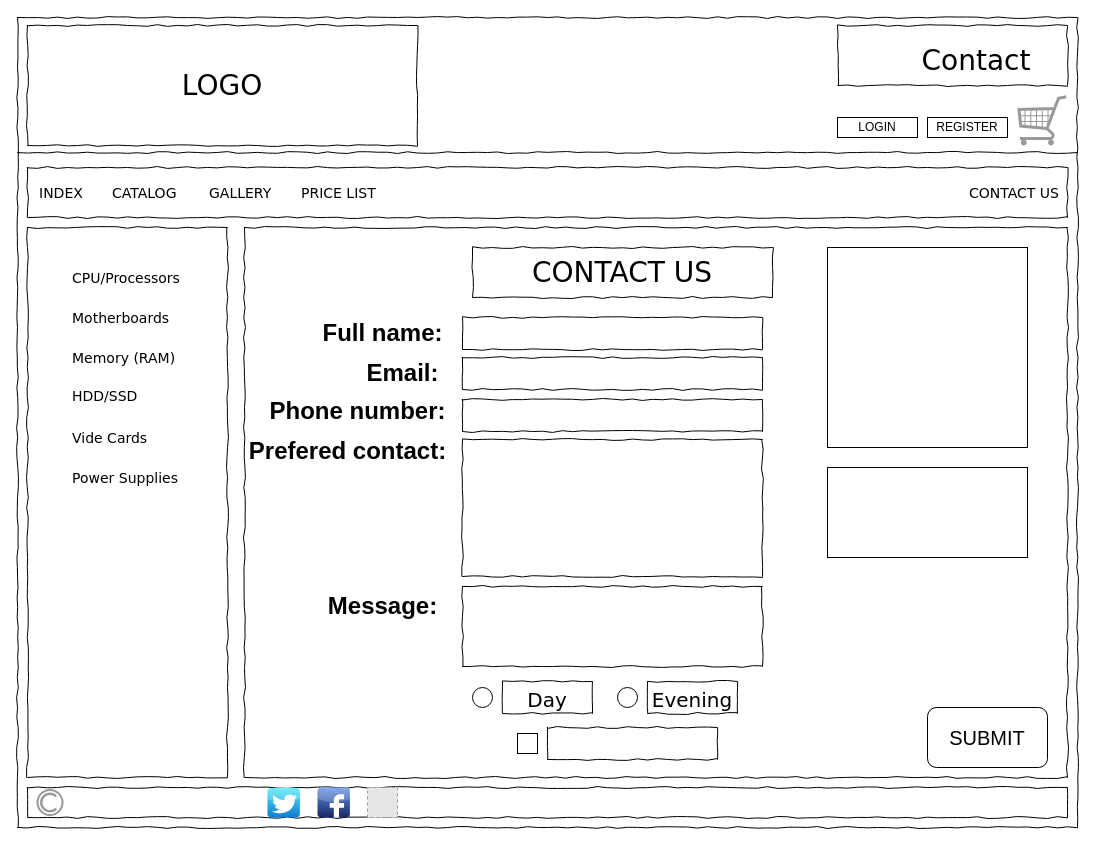
The diagram is 1095 pixels wide and 845 high, and some of its shapes have lost their labels. Grey dashed boxes stand in for pictures. The shapes that lost their labels are listed below. From the top down, each one's box as (x1, y1, x2, y2) in pixels, then its label:
(826, 246, 1028, 448): GOOGLE MAP
(462, 438, 762, 576): Drop down: Phone Email
(826, 466, 1028, 558): PHYSICAL ADDRESS
(546, 726, 718, 760): Do not reply
